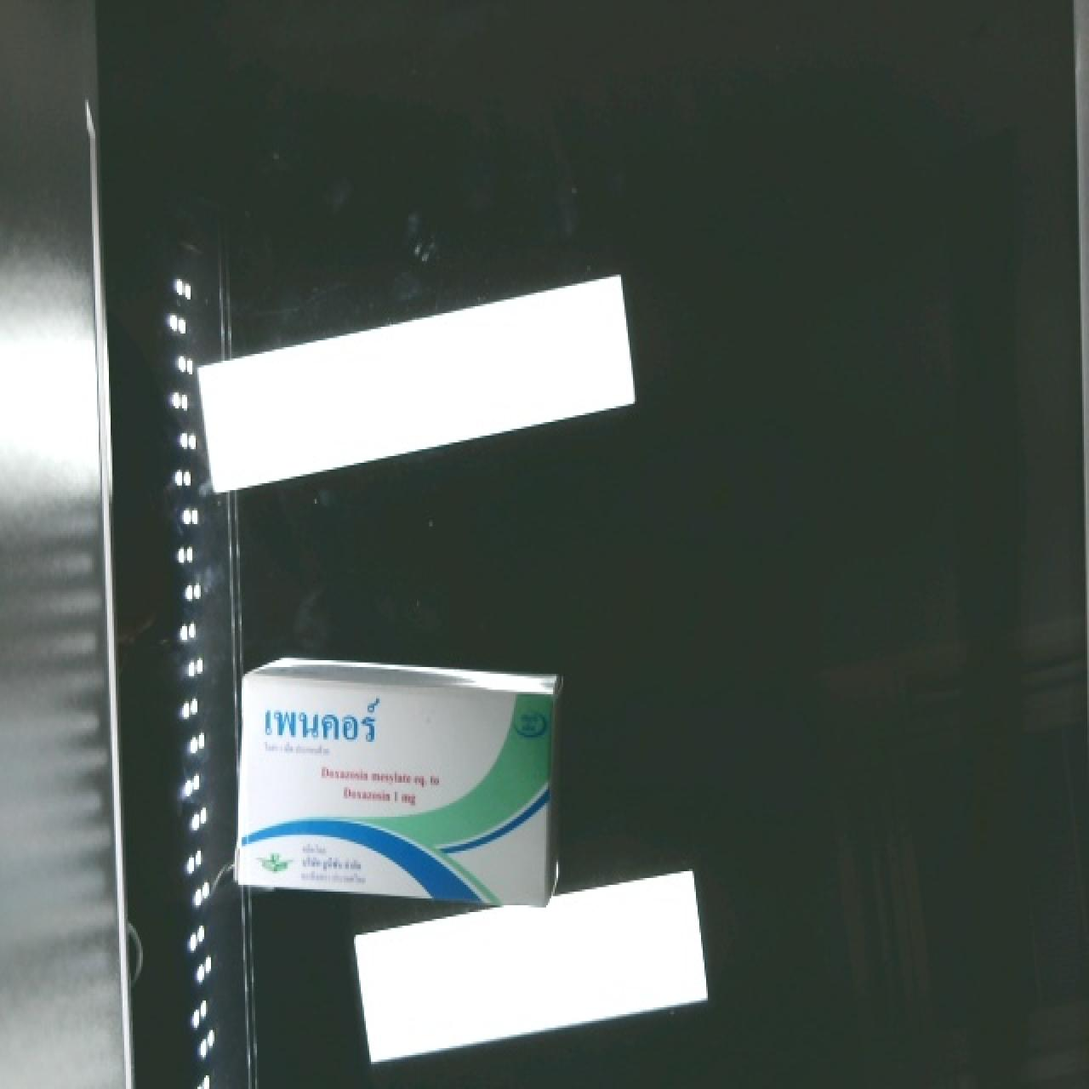medicine_label_obb: (241, 672, 404, 769)
